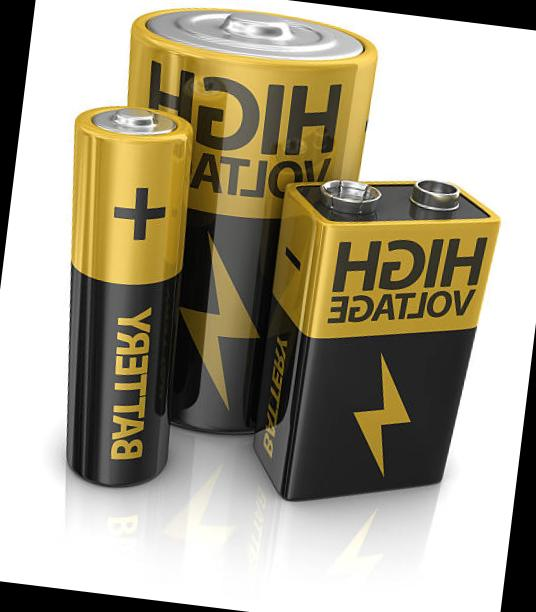battery: (95, 0, 386, 467), (216, 136, 514, 536), (33, 93, 208, 507)
